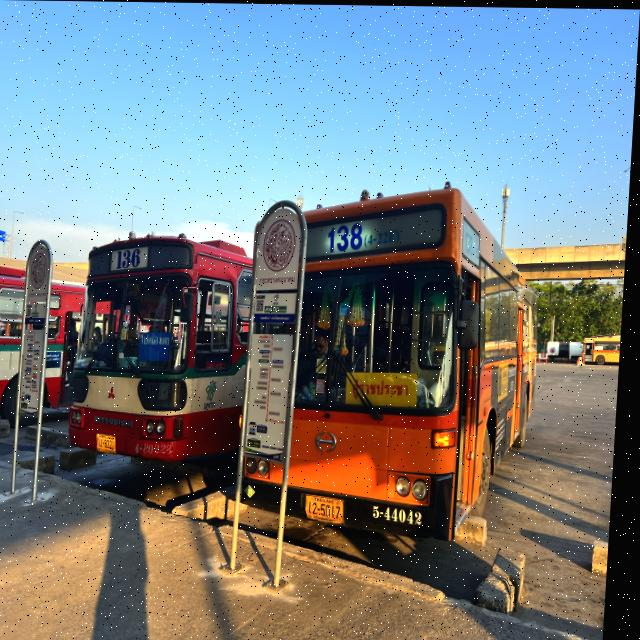BMTA-bus: (282, 183, 548, 555), (68, 233, 259, 468)
Bus-Line-Number: (322, 215, 406, 256), (118, 246, 147, 270)
Destination-Sign-Normal: (141, 329, 177, 362)
Destination-Sign-Normal-Expressway: (349, 367, 425, 406)
